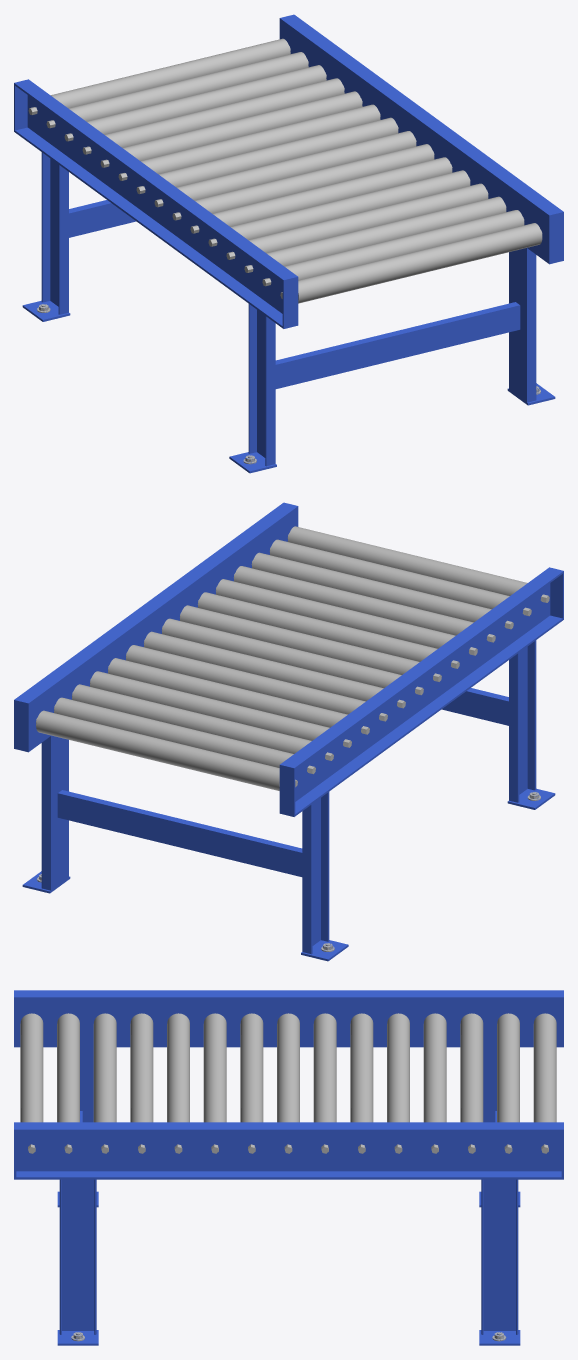
The model's file is converyer1.dae.
3 views of the same model, one above another, from view 1: azimuth 30°, elevation 25°; view 2: azimuth 150°, elevation 25°; view 3: azimuth 270°, elevation 25° (orthographic).
Parts seen in each view (by area): view 1: PD_1st_Double_Conveyer (×22); view 2: PD_1st_Double_Conveyer (×22); view 3: PD_1st_Double_Conveyer (×20).
Part boxes in pixels (x1,y1,x2,y2): PD_1st_Double_Conveyer (×22): (14, 14, 563, 473); PD_1st_Double_Conveyer (×22): (14, 502, 563, 961); PD_1st_Double_Conveyer (×20): (14, 990, 563, 1345).
Bounding box in the file's own units: 39.25 × 60 × 25.25.
